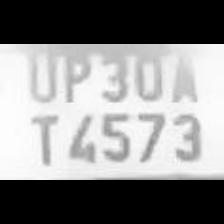0: (129, 44, 165, 100)
3: (168, 105, 204, 163), (95, 44, 131, 100)
4: (61, 107, 97, 165)
5: (96, 105, 132, 163)
7: (131, 107, 167, 165)
A: (165, 46, 201, 102)
P: (56, 44, 92, 104)
T: (22, 109, 60, 167)
U: (22, 44, 58, 104)
